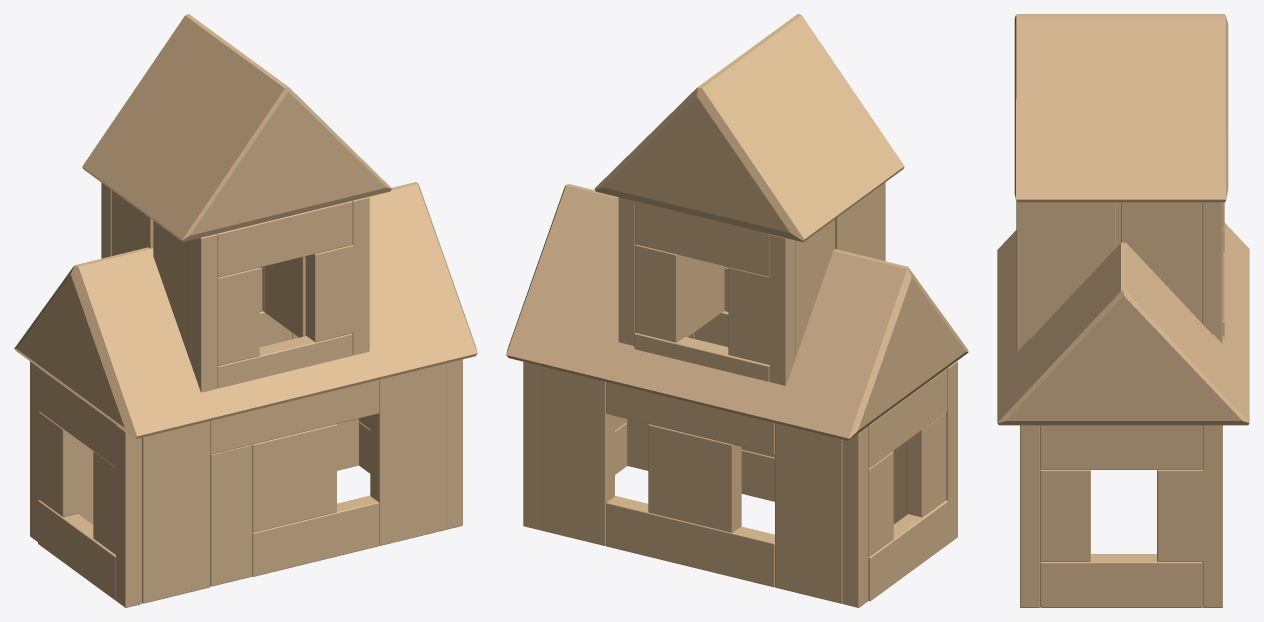
Rendered from house2.obj.
3 renders of one model, left to right at view 1: azimuth 30°, elevation 25°; view 2: azimuth 150°, elevation 25°; view 3: azimuth 270°, elevation 25°, orthographic. The views are drawn at different scales.
Parts seen in each view (by area): view 1: obj_0; view 2: obj_0; view 3: obj_0.
Boxes of the visible parts, left/top/right/bottom form: obj_0: left=14, top=14, right=477, bottom=607; obj_0: left=506, top=14, right=968, bottom=607; obj_0: left=997, top=14, right=1249, bottom=607.
Bounding box in the file's own units: 41.2 × 54.6 × 24.8.
